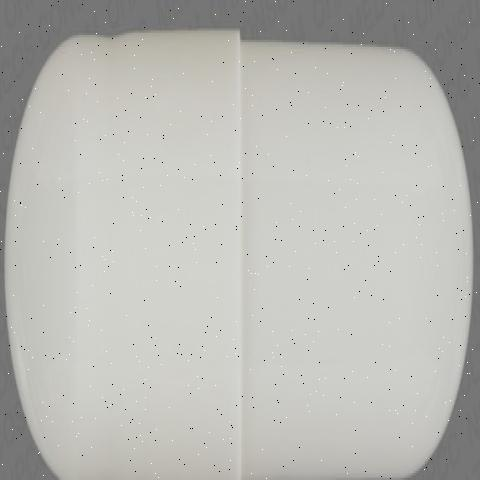Pill: (1, 7, 480, 480)
